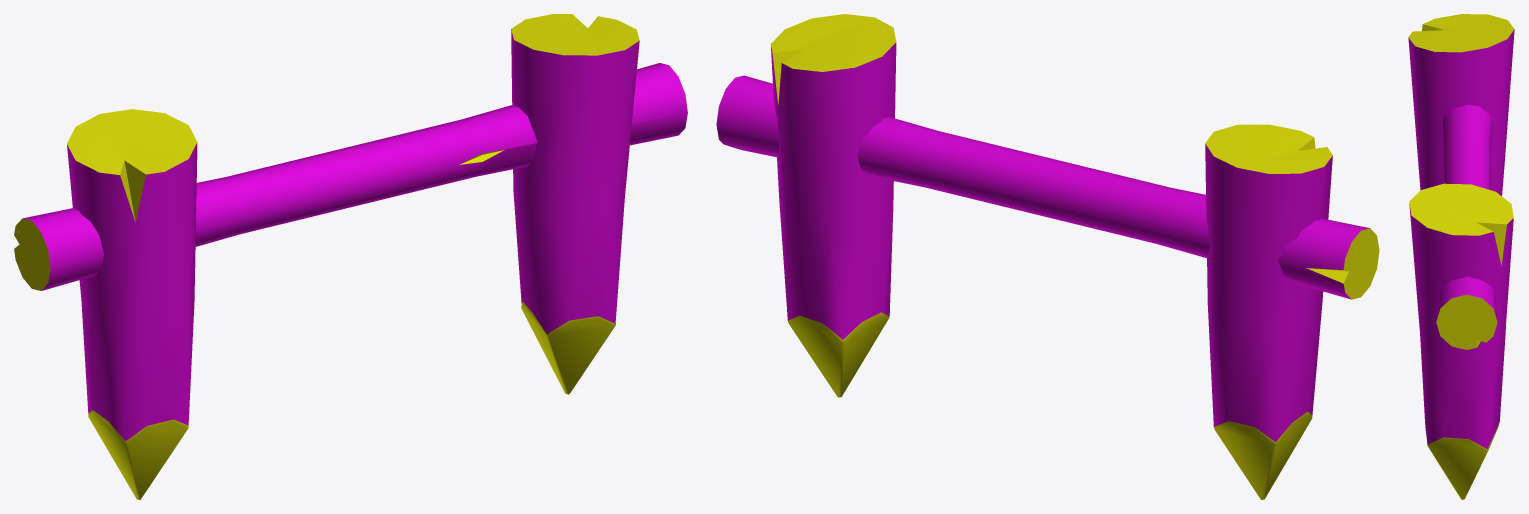
The model's file is F_LogFence001.fbx.
3 views of the same model, side by side, from view 1: azimuth 30°, elevation 25°; view 2: azimuth 150°, elevation 25°; view 3: azimuth 270°, elevation 25° (orthographic). The views are drawn at different scales.
Parts seen in each view (by area): view 1: Cylinder028; view 2: Cylinder028; view 3: Cylinder028.
Part boxes in pixels (x1=…): Cylinder028: x1=14, y1=14, x2=687, y2=499; Cylinder028: x1=716, y1=14, x2=1379, y2=499; Cylinder028: x1=1408, y1=14, x2=1514, y2=499.
Bounding box in the file's own units: 161 × 87.82 × 28.44.
